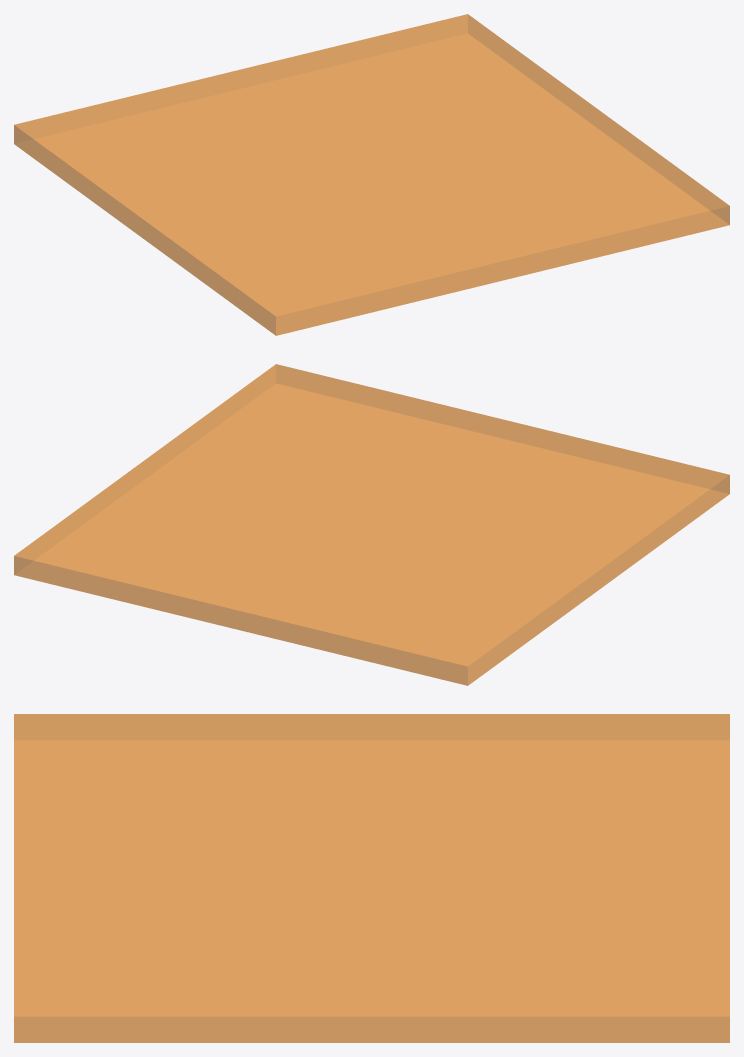
The model's file is balsa_board.dae.
3 renders of one model, top to bottom at view 1: azimuth 30°, elevation 25°; view 2: azimuth 150°, elevation 25°; view 3: azimuth 270°, elevation 25°, orthographic. The views are drawn at different scales.
Visible parts, largest first — view 1: Cube; view 2: Cube; view 3: Cube.
Part boxes in pixels (left/top/right/bottom): Cube: left=14, top=14, right=729, bottom=335; Cube: left=14, top=364, right=729, bottom=685; Cube: left=14, top=714, right=729, bottom=1042.
Bounding box in the file's own units: 4 × 4 × 0.1627.
